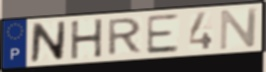4: (188, 10, 214, 52)
E: (145, 12, 181, 56)
H: (69, 17, 105, 61)
N: (218, 6, 260, 52), (29, 20, 68, 64)
R: (106, 16, 145, 58)
